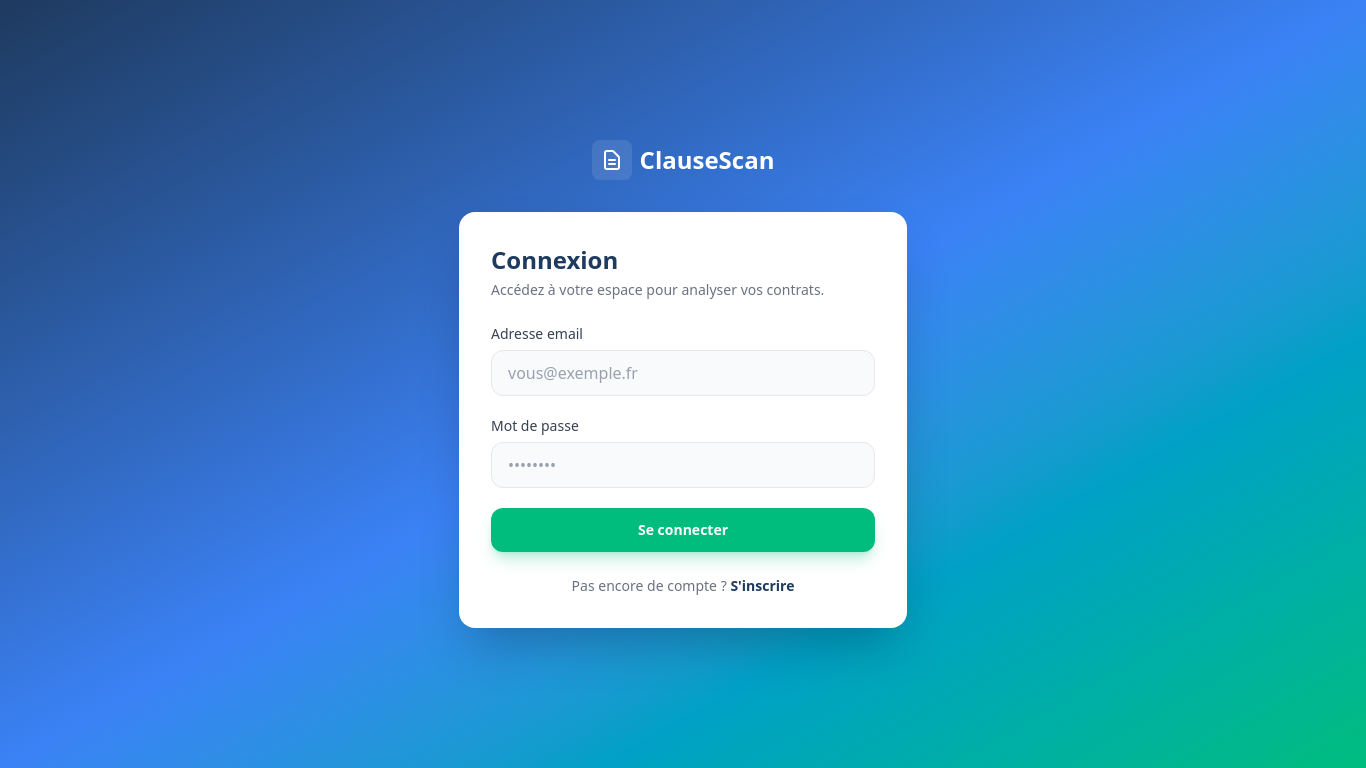
Test: LoginPage › displays 422 API errors under the corresponding fields
The image size is (1366, 768).
Type "marie@exemple.fr" into the field labelled "Adresse email".
click(683, 373); type("marie@exemple.fr")  # box [491, 350, 875, 396]
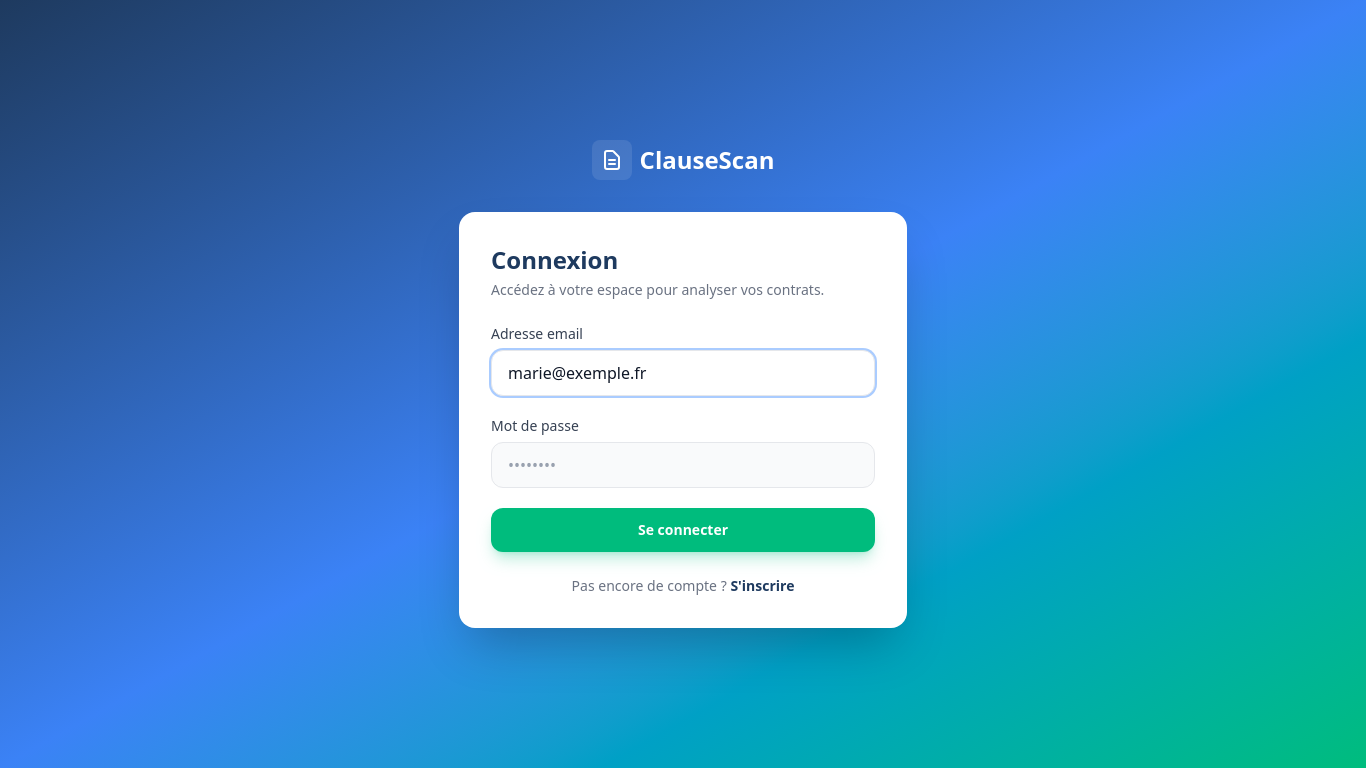
Type "motdepasse123" into the password field labelled "Mot de passe".
click(683, 465); type("motdepasse123")  # box [491, 442, 875, 488]
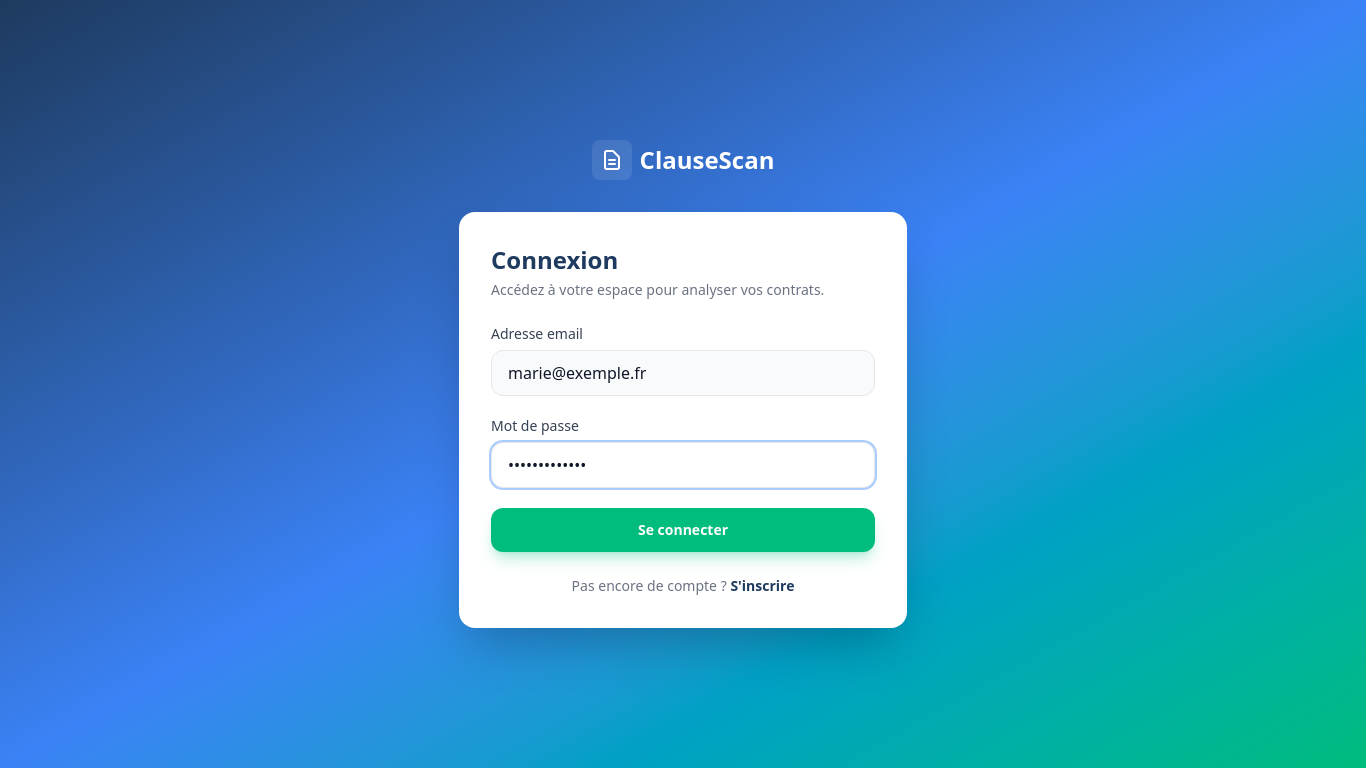
Click the button "Se connecter".
click(683, 530)  # box [491, 508, 875, 552]
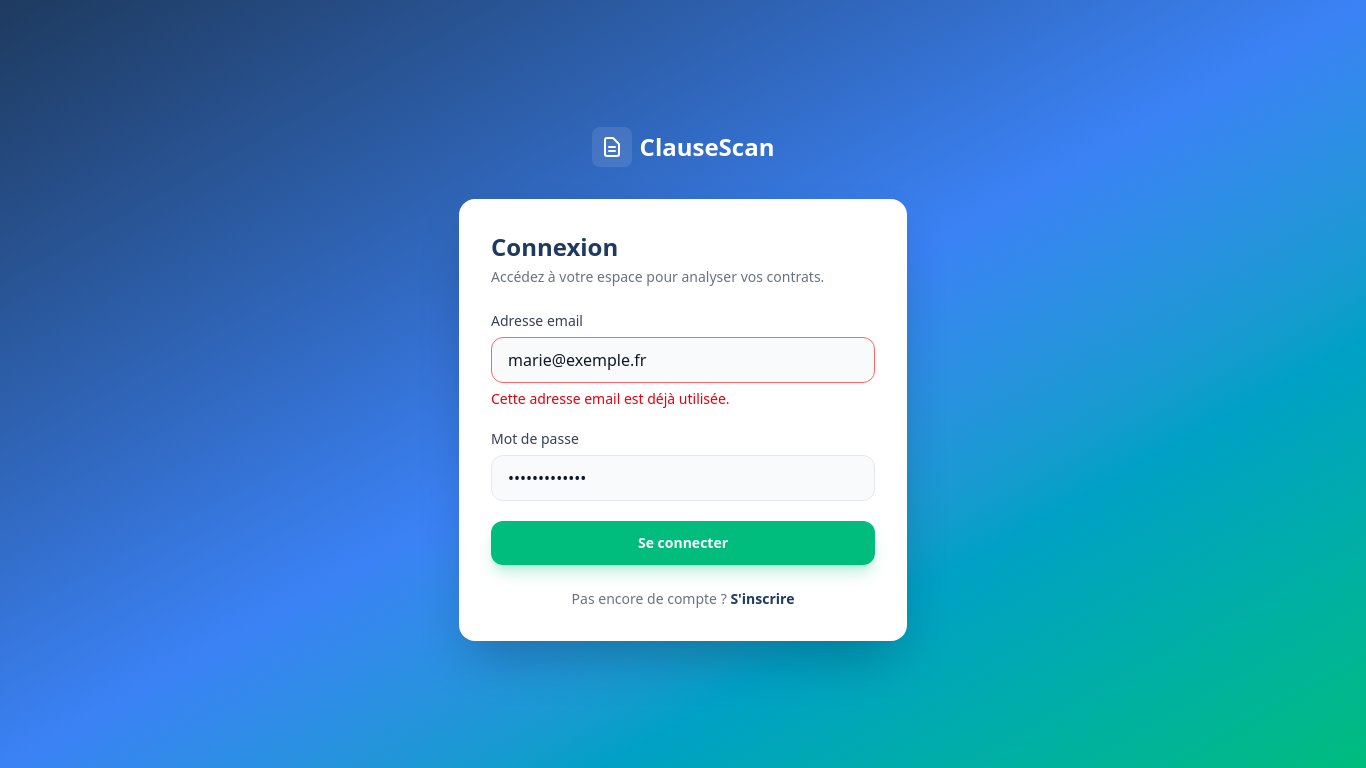
Check: the text "Cette adresse email est déjà utilisée." is shown, box [491, 389, 730, 408]
